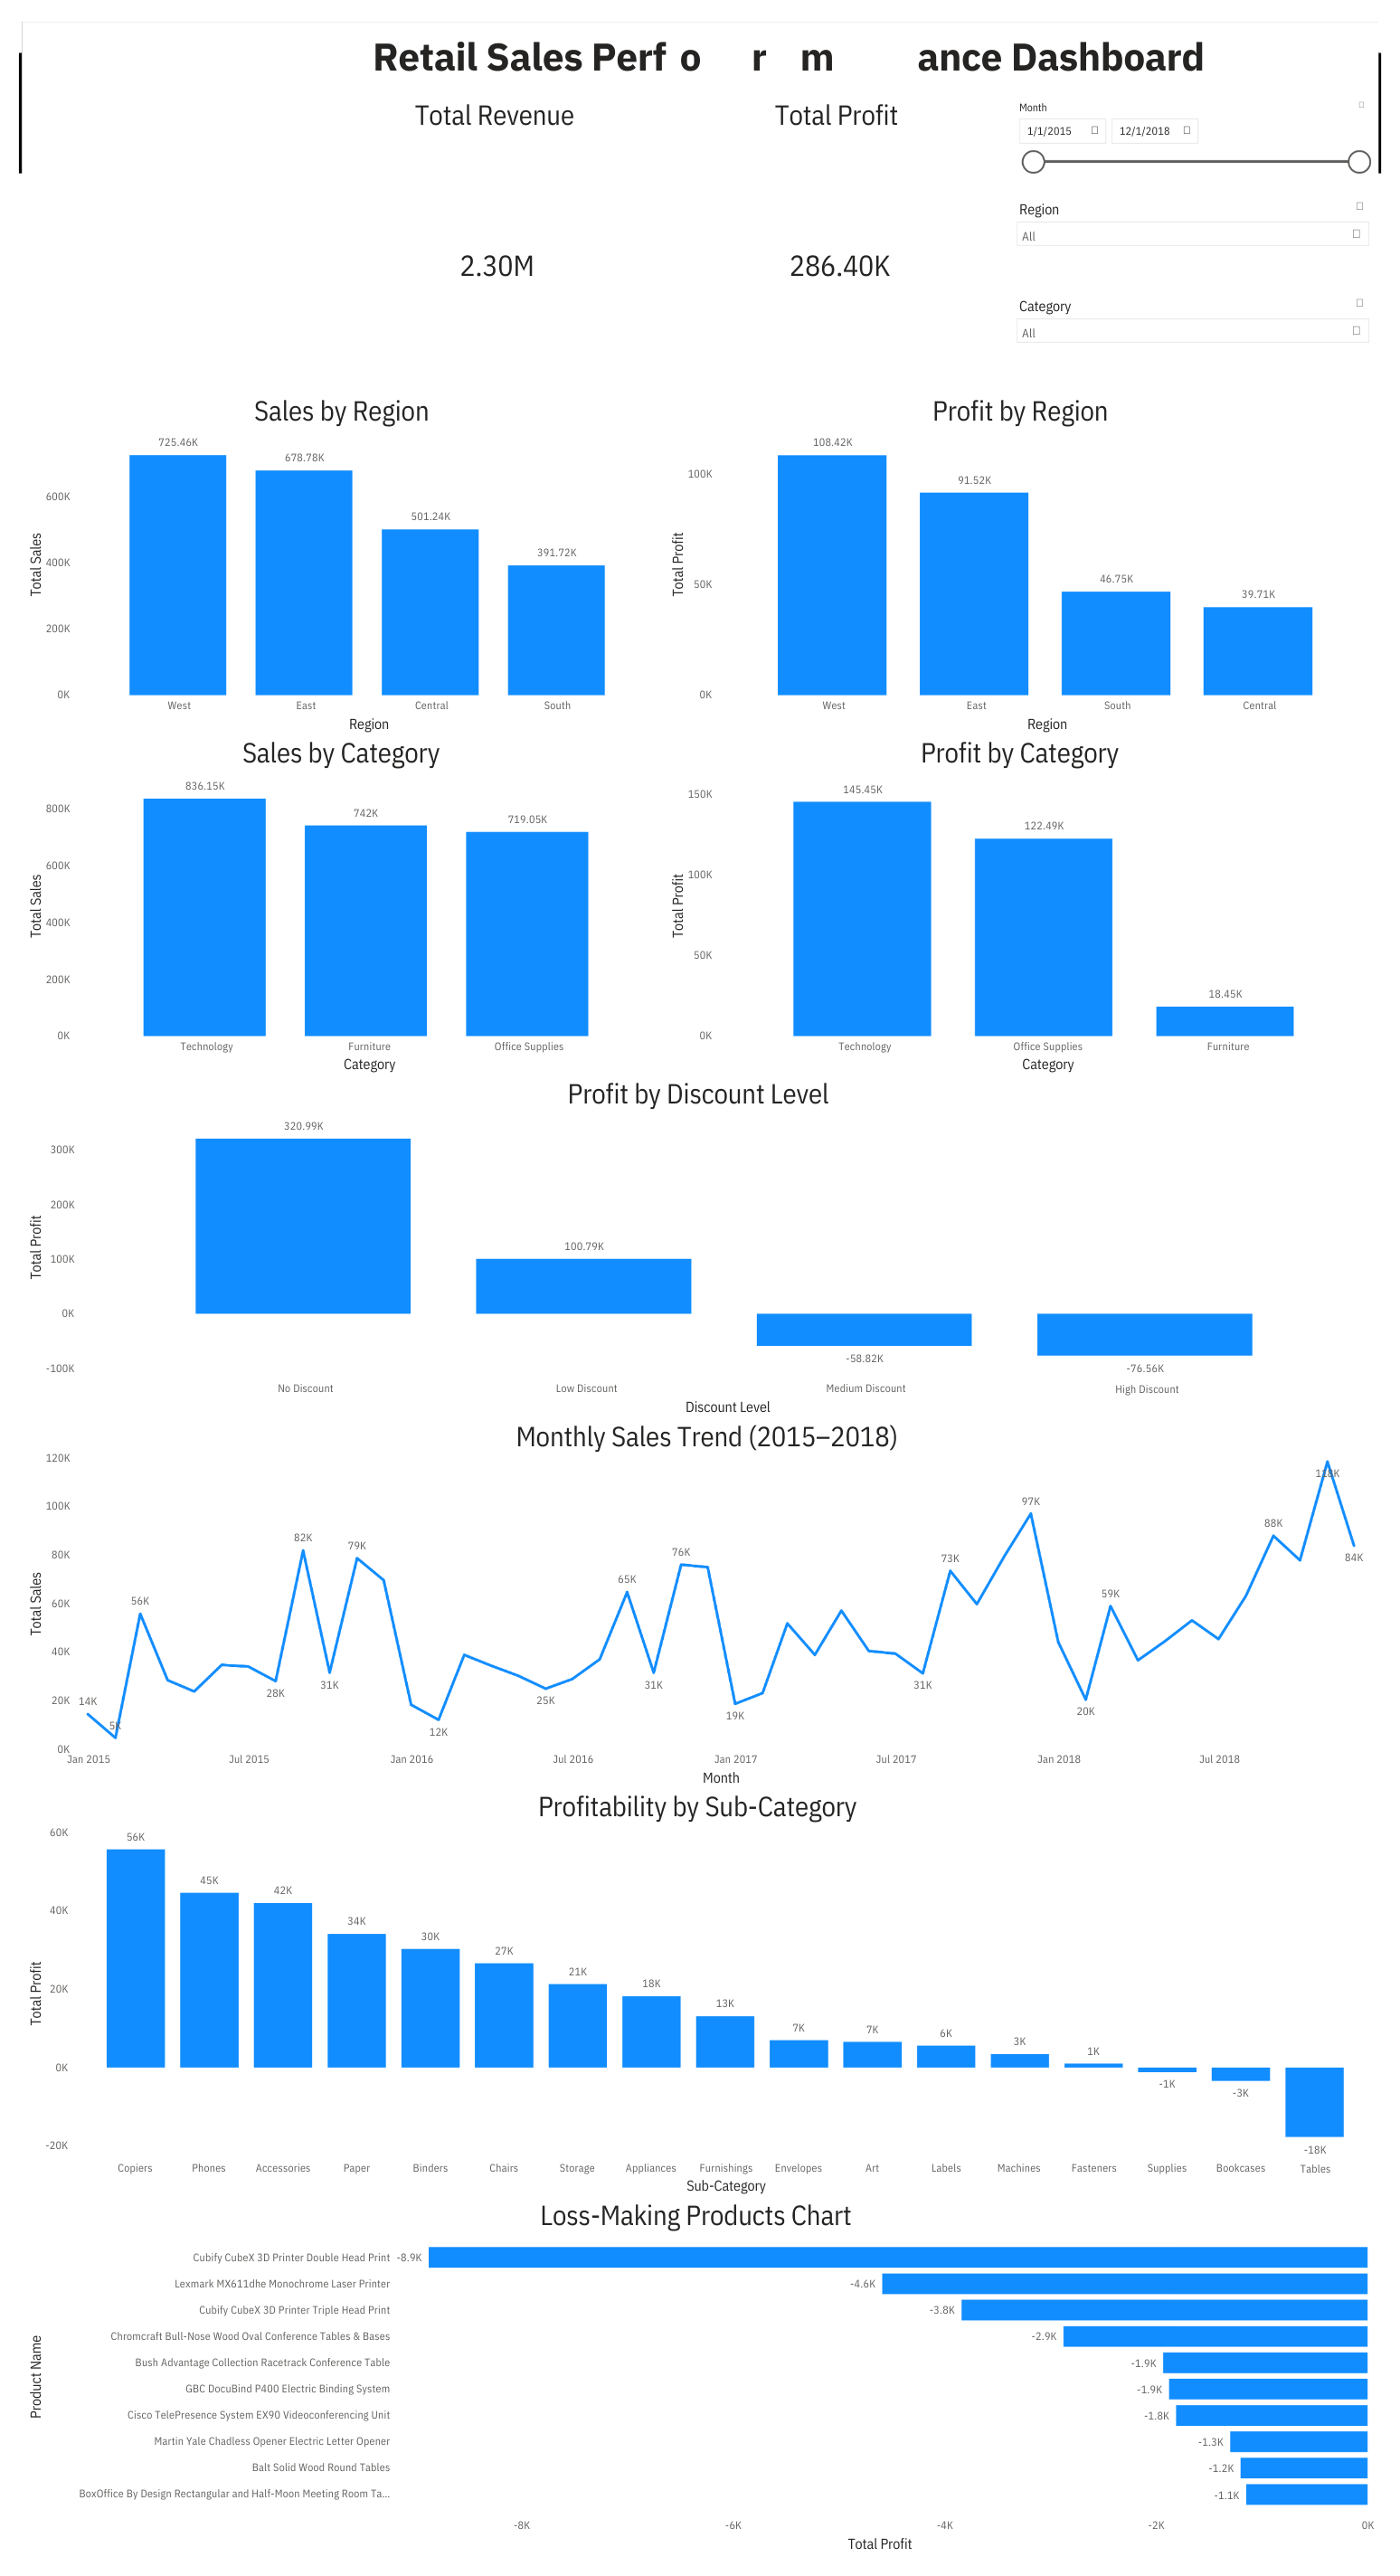

Layout of this report page (visuals, bound fields, positions):
{"tool":"powerbi","page":{"name":"Page 1","canvas":[1500,2800],"ordinal":0},"visuals":[{"type":"card","title":"Total Revenue","fields":{"Values":["Sum(public v_sales_kpis.total_revenue)"]},"box":[332.5,82.5,377.5,327.5],"z":0},{"type":"card","title":"Total Profit","fields":{"Values":["Sum(public v_sales_kpis.total_profit)"]},"box":[710,82.5,380,327.5],"z":1000},{"type":"clusteredColumnChart","title":"Sales by Region","fields":{"Category":["public v_regional_performance.region"],"Y":["Sum(public v_regional_performance.total_sales)"]},"box":[0,410,710,377.5],"z":2000},{"type":"clusteredColumnChart","title":"Profit by Region","fields":{"Category":["public v_regional_performance.region"],"Y":["Sum(public v_regional_performance.total_profit)"]},"box":[710,410,790,377.5],"z":3000},{"type":"clusteredColumnChart","title":"Sales by Category","fields":{"Category":["public v_category_performance.category"],"Y":["Sum(public v_category_performance.total_sales)"]},"box":[0,787.5,710,377.5],"z":4000},{"type":"clusteredColumnChart","title":"Profit by Category","fields":{"Category":["public v_category_performance.category"],"Y":["Sum(public v_category_performance.total_profit)"]},"box":[710,787.5,790,377.5],"z":5000},{"type":"clusteredColumnChart","title":"Profit by Discount Level","fields":{"Category":["public v_discount_analysis.discount_level"],"Y":["Sum(public v_discount_analysis.total_profit)"]},"box":[0,1165,1500,377.5],"z":6000},{"type":"lineChart","title":"Monthly Sales Trend (2015–2018)","fields":{"Y":["Sum(public v_monthly_sales_trend.total_sales)"],"Category":["public v_monthly_sales_trend.month"]},"box":[0,1542.5,1500,410],"z":7000},{"type":"clusteredColumnChart","title":"Profitability by Sub-Category","fields":{"Category":["public v_subcategory_profitability.sub_category"],"Y":["Sum(public v_subcategory_profitability.total_profit)"]},"box":[0,1952.5,1500,452.5],"z":8000},{"type":"clusteredBarChart","title":"Loss-Making Products Chart","fields":{"Category":["public v_product_profitability.product_name"],"Y":["Sum(public v_product_profitability.total_profit)"]},"box":[0,2405,1500,395],"z":9000},{"type":"textbox","box":[0,0,1500,82.5],"z":10000},{"type":"slicer","fields":{"Values":["public v_monthly_sales_trend.month"]},"box":[1090,82.5,410,165],"z":11000},{"type":"slicer","fields":{"Values":["public v_regional_performance.region"]},"box":[1090,247.5,410,162.5],"z":12000}]}

Visuals, with their boxes in screenshot pixels (x1, y1, x2, y2), scaled from the page's 1500x2800 canvas onto the 1400x2576 screenshot:
"Total Revenue" card: <region>310, 76, 663, 377</region>
"Total Profit" card: <region>663, 76, 1017, 377</region>
"Sales by Region" clusteredColumnChart: <region>0, 377, 663, 724</region>
"Profit by Region" clusteredColumnChart: <region>663, 377, 1399, 724</region>
"Sales by Category" clusteredColumnChart: <region>0, 724, 663, 1072</region>
"Profit by Category" clusteredColumnChart: <region>663, 724, 1399, 1072</region>
"Profit by Discount Level" clusteredColumnChart: <region>0, 1072, 1399, 1419</region>
"Monthly Sales Trend (2015–2018)" lineChart: <region>0, 1419, 1399, 1796</region>
"Profitability by Sub-Category" clusteredColumnChart: <region>0, 1796, 1399, 2212</region>
"Loss-Making Products Chart" clusteredBarChart: <region>0, 2212, 1399, 2575</region>
textbox: <region>0, 0, 1399, 76</region>
slicer - public v_monthly_sales_trend.month: <region>1017, 76, 1399, 228</region>
slicer - public v_regional_performance.region: <region>1017, 228, 1399, 377</region>
